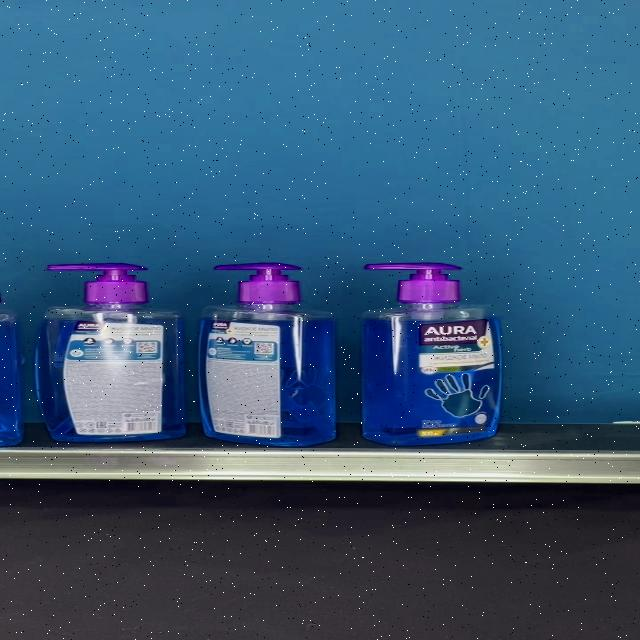Bottle: (37, 263, 186, 441), (361, 262, 502, 447), (198, 263, 338, 447)
Cap: (364, 262, 460, 304), (51, 263, 148, 304), (213, 263, 301, 305)
